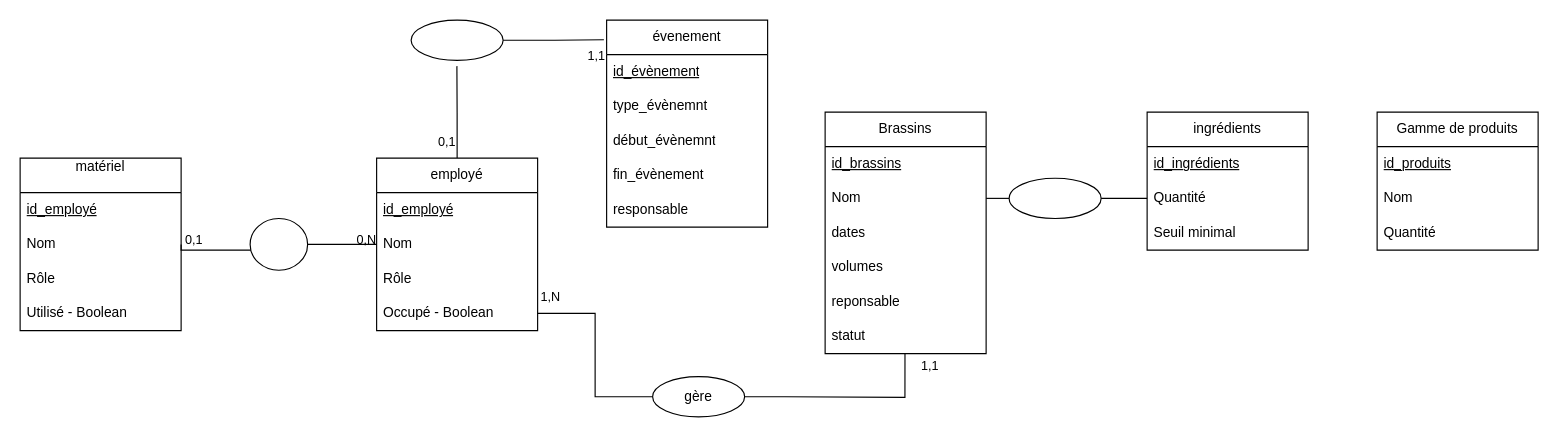
This 1558x437 diagram has some shape labels left out. Each missing label, with the centre of its shape:
appartient: pixel 1054 197
organiser: pixel 456 39
utilise: pixel 278 243
